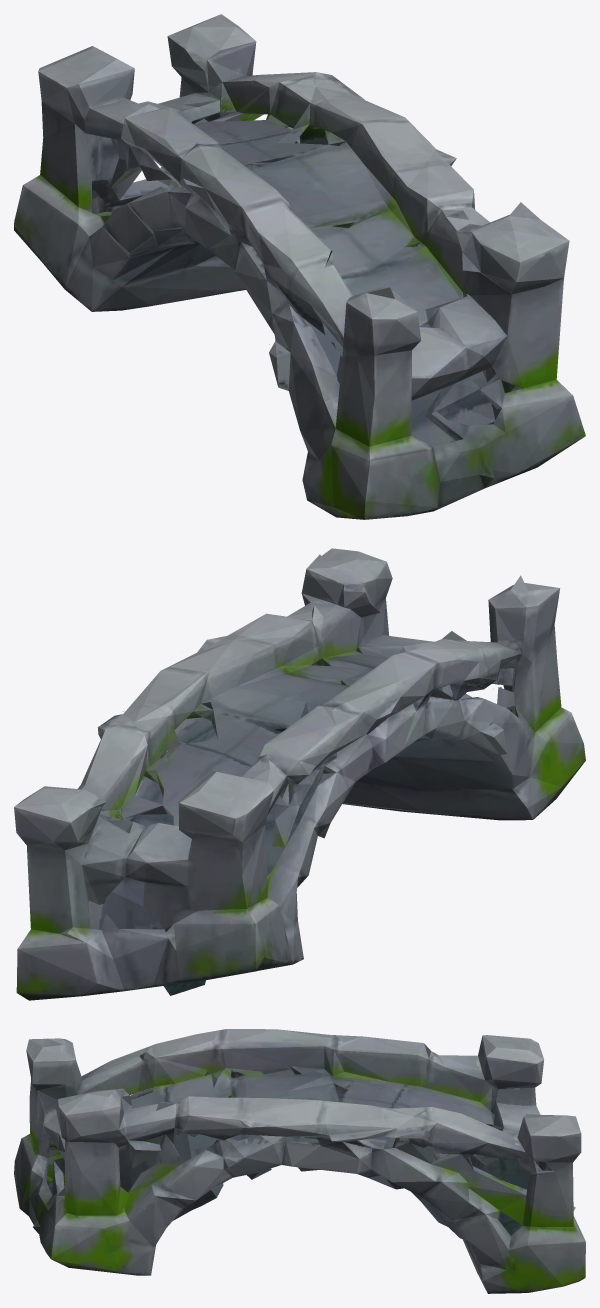
The model's file is bridge-stone.glb.
3 views of the same model, one above another, from view 1: azimuth 30°, elevation 25°; view 2: azimuth 150°, elevation 25°; view 3: azimuth 270°, elevation 25° (orthographic). The views are drawn at different scales.
Visible parts, largest first — view 1: bridge-stone; view 2: bridge-stone; view 3: bridge-stone.
Part boxes in pixels (box(x1,y1,x2,y2)): bridge-stone: box(14, 14, 585, 519); bridge-stone: box(14, 548, 585, 1000); bridge-stone: box(14, 1029, 585, 1293).
Size of the model in its own units: 4.74 by 4.64 by 11.98.
1 material, 1 textured.
